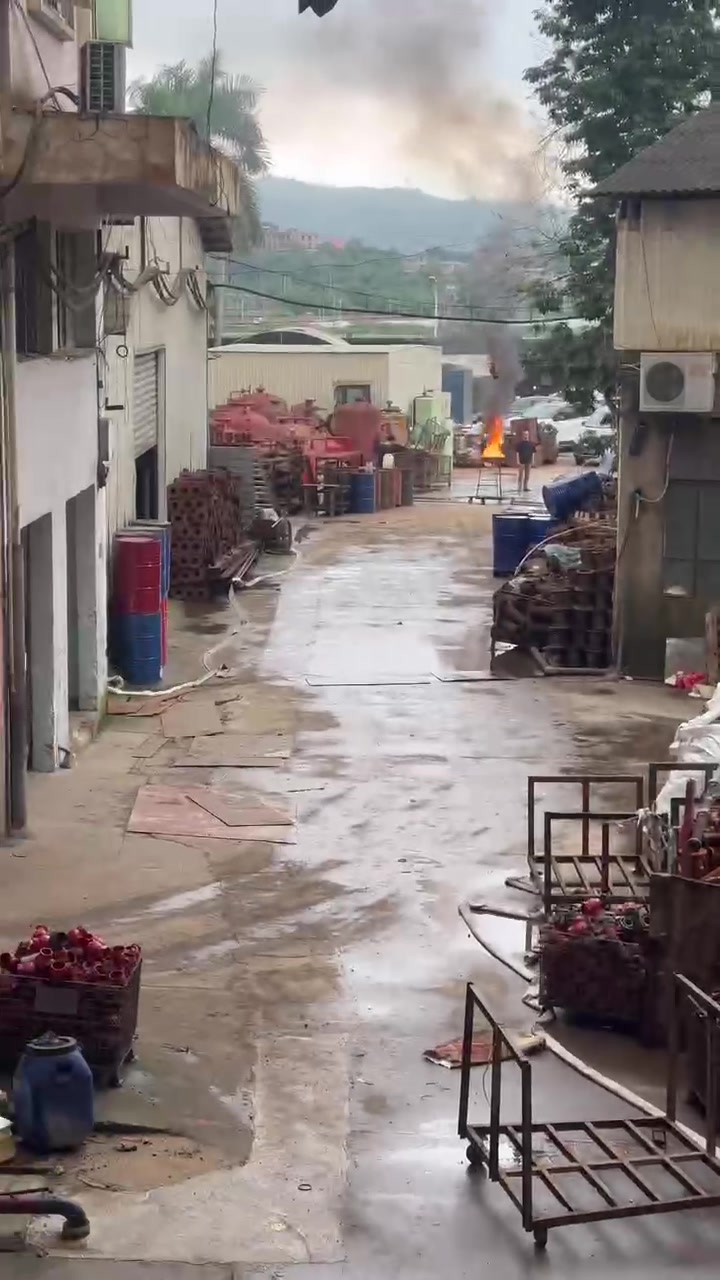fire: (482, 419, 505, 458)
